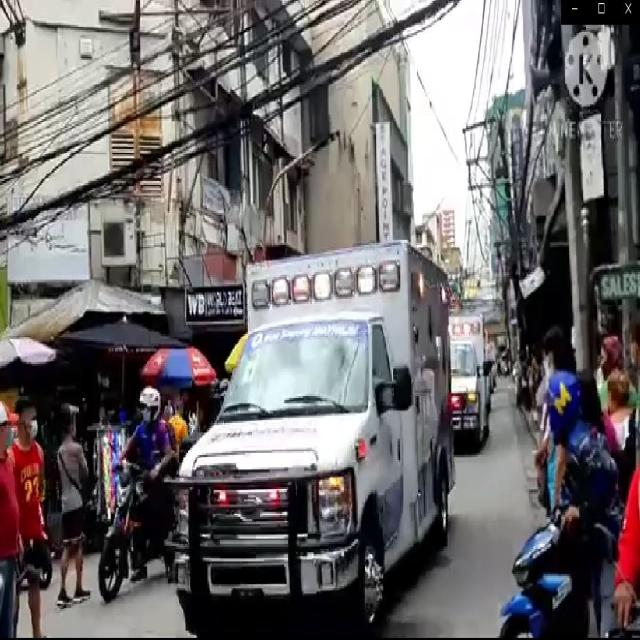emergency: (164, 245, 459, 633), (418, 307, 498, 463)
